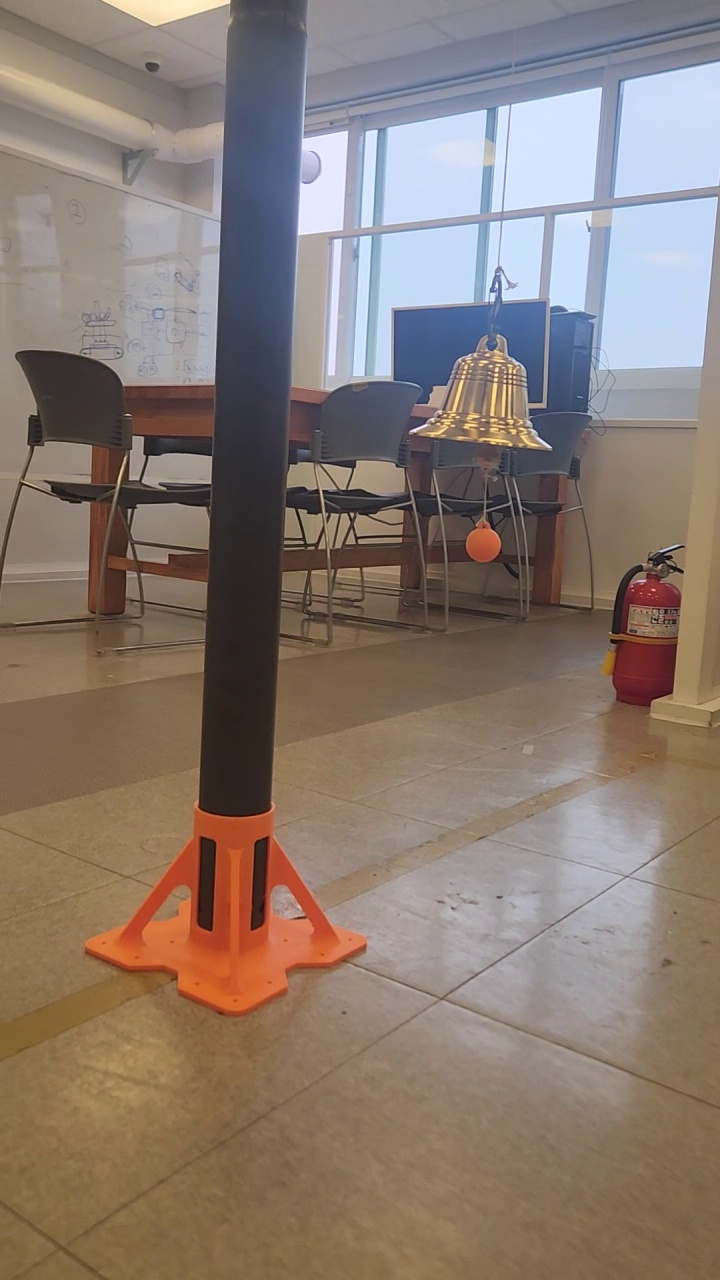bell: (405, 332, 560, 458)
pole: (197, 1, 306, 809)
